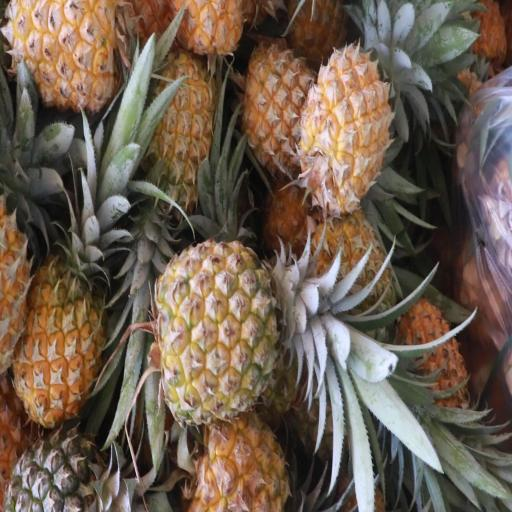------------------------------: (151, 236, 350, 426)
Pineapple - v8 v1: (14, 168, 112, 435), (291, 46, 405, 202), (177, 401, 324, 512), (138, 50, 217, 210), (236, 32, 311, 173)
